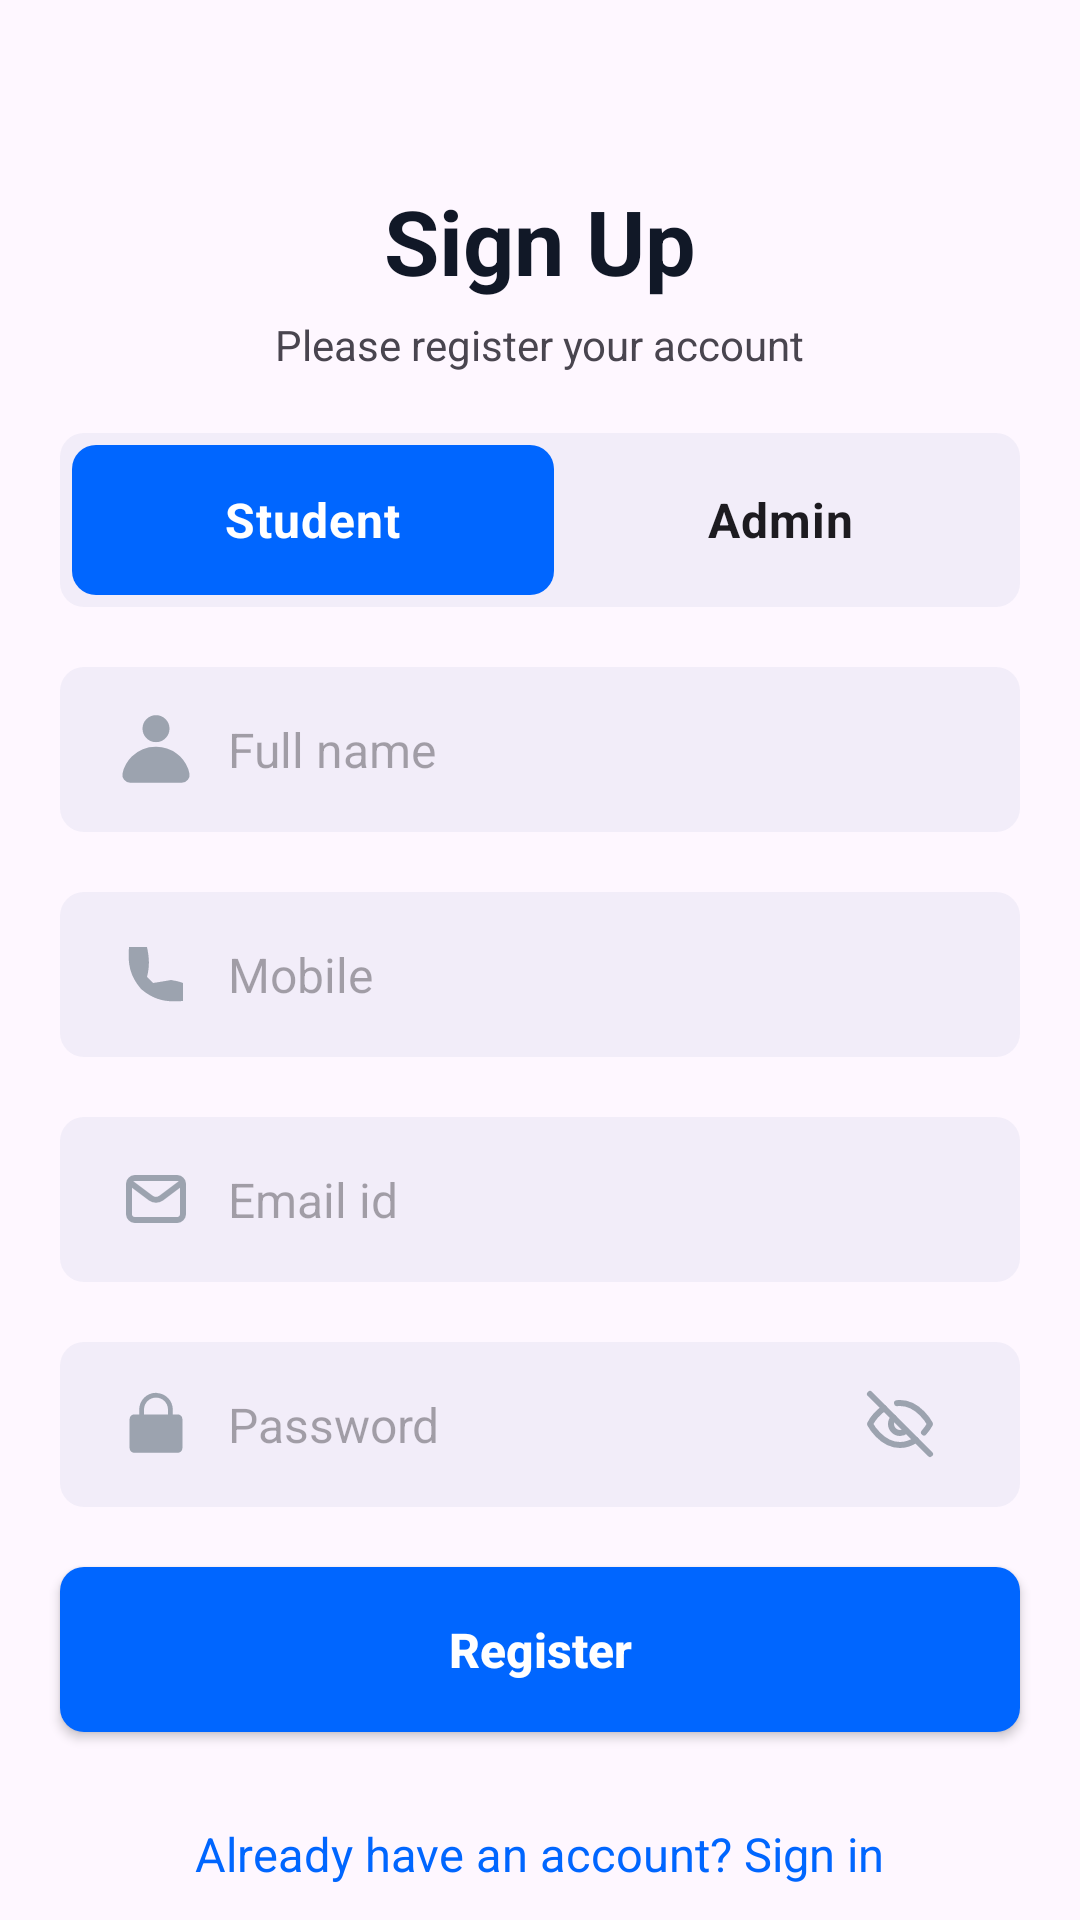

Screen size 1080x1920. Icon name, then its center in pixels as [x,y]:
hide pw: [900,1424]
